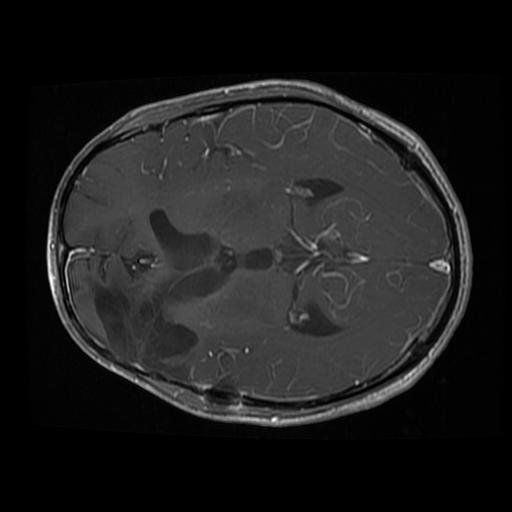glioma: (90, 279, 202, 368)
